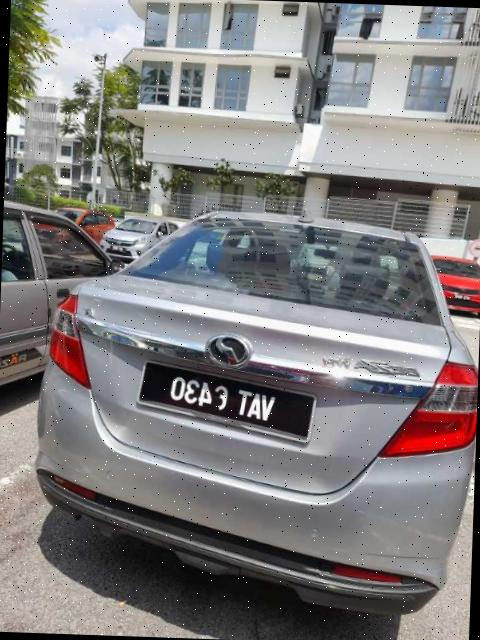License_Plate: (135, 360, 319, 446)
car: (30, 202, 480, 618)
